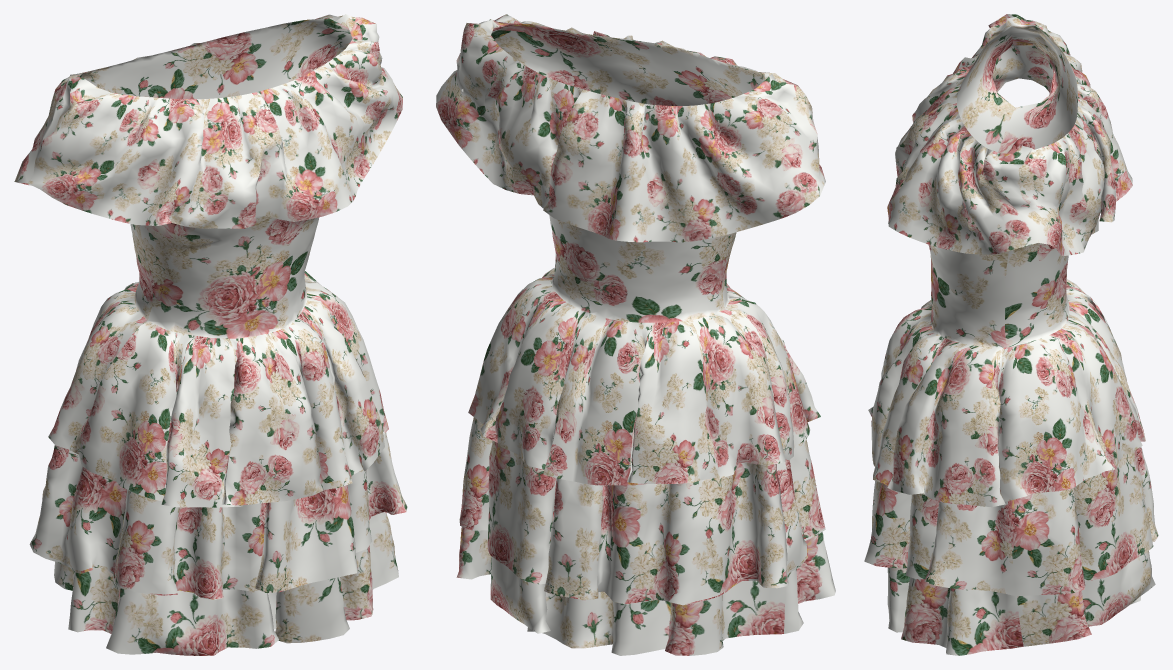
Rendered from DlDo6SiA2r.glb.
The picture shows the model from 3 angles, left to right: view 1: azimuth 30°, elevation 25°; view 2: azimuth 150°, elevation 25°; view 3: azimuth 270°, elevation 25°; orthographic projection. The views are drawn at different scales.
Visible parts, largest first — view 1: to max from substance; view 2: to max from substance; view 3: to max from substance.
Part boxes in pixels (left/top/right/bottom): to max from substance: left=14, top=14, right=407, bottom=655; to max from substance: left=436, top=14, right=835, bottom=655; to max from substance: left=864, top=14, right=1158, bottom=655.
Bounding box in the file's own units: 57.32 × 81.23 × 41.27.
Materials: 5 (5 with a texture image).
